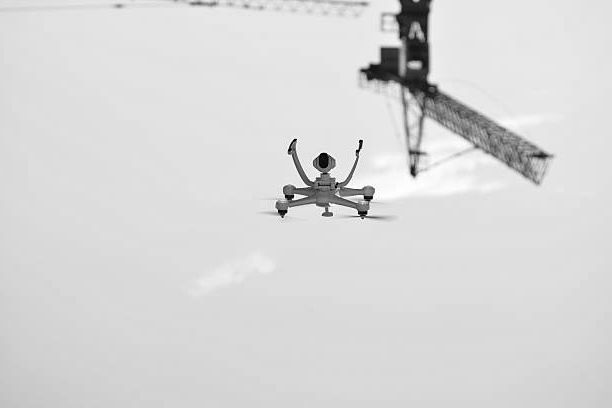Drone: (253, 132, 401, 230)
